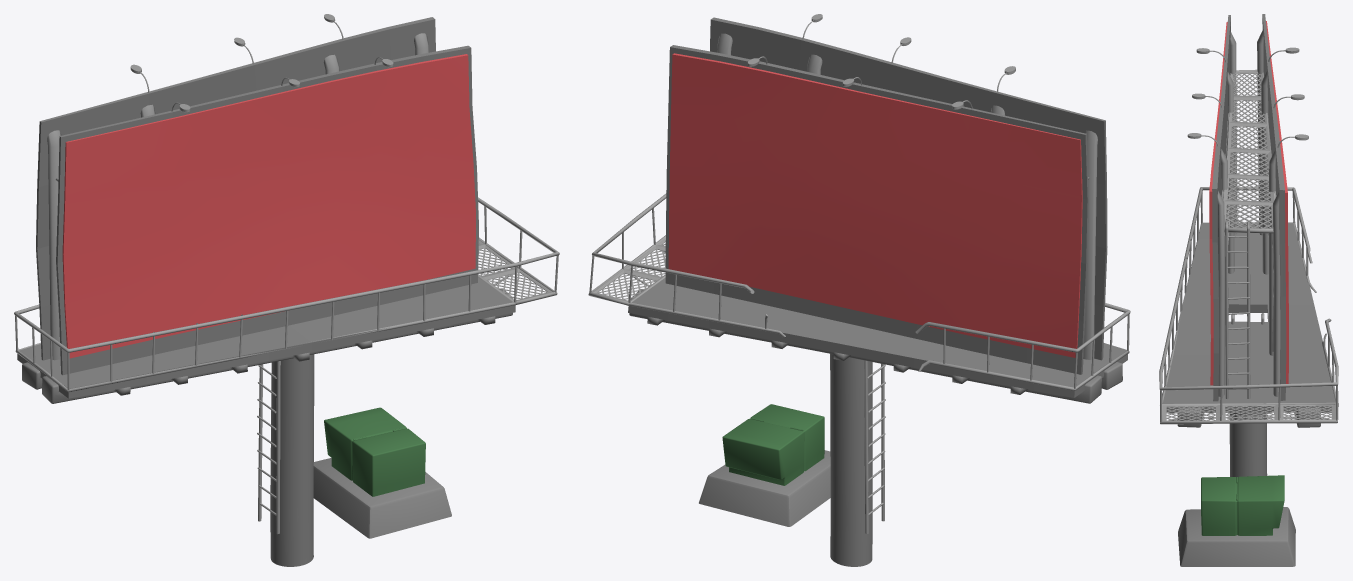
The model's file is BillboardMesh.fbx.
3 renders of one model, left to right at view 1: azimuth 30°, elevation 25°; view 2: azimuth 150°, elevation 25°; view 3: azimuth 270°, elevation 25°, orthographic. The views are drawn at different scales.
Visible parts, largest first — view 1: Billboard; view 2: Billboard; view 3: Billboard.
Boxes of the visible parts, box(x1,y1,x2,y2) form: Billboard: box(14, 14, 559, 566); Billboard: box(588, 14, 1130, 566); Billboard: box(1159, 14, 1338, 566).
Bounding box in the file's own units: 1041 × 1061 × 388.
